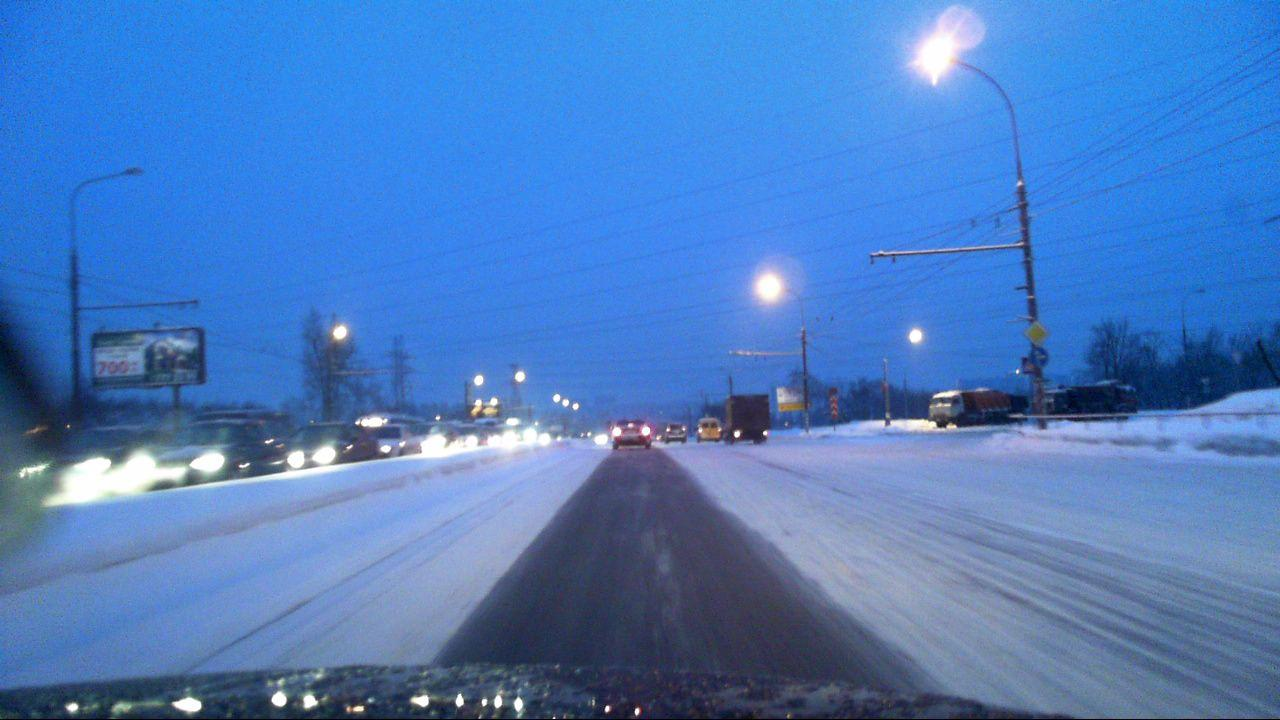road_sign: (1021, 320, 1051, 348)
